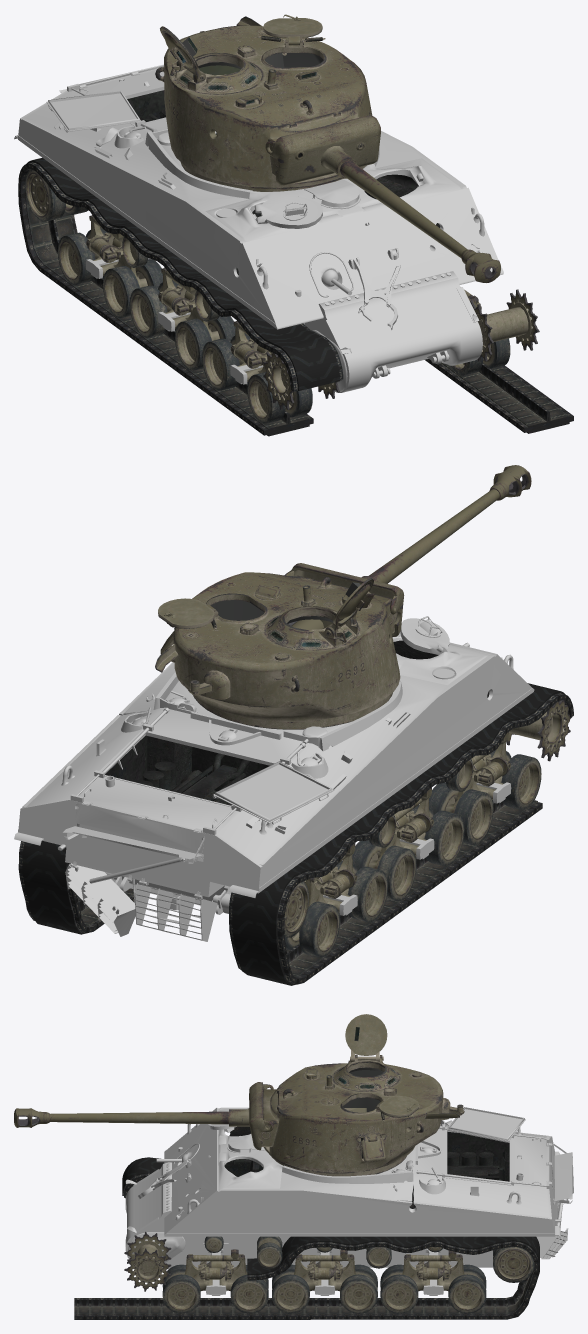
Rendered from M4A3E8_CRASHED.fbx.
3 renders of one model, top to bottom at view 1: azimuth 30°, elevation 25°; view 2: azimuth 150°, elevation 25°; view 3: azimuth 270°, elevation 25°, orthographic. The views are drawn at different scales.
Parts seen in each view (by area): view 1: american\A06_M4A3E8_Sherman\crash\l\Hull.pri~6~4, american\A06_M4A3E8_Sherman\crash\l\Turret_02.pri~6~6, american\A06_M4A3E8_Sherman\crash\l\Hull.pri~6~5, american\A06_M4A3E8_Sherman\crash\l\Chassis.pri~6~2, american\A06_M4A3E8_Sherman\crash\l\Gun_06.pri~6~7, american\A06_M4A3E8_Sherman\crash\l\Chassis.pri~6~1, american\A06_M4A3E8_Sherman\crash\l\Hull.pri~6~3; view 2: american\A06_M4A3E8_Sherman\crash\l\Hull.pri~6~4, american\A06_M4A3E8_Sherman\crash\l\Turret_02.pri~6~6, american\A06_M4A3E8_Sherman\crash\l\Hull.pri~6~5, american\A06_M4A3E8_Sherman\crash\l\Chassis.pri~6~2, american\A06_M4A3E8_Sherman\crash\l\Hull.pri~6~3, american\A06_M4A3E8_Sherman\crash\l\Gun_06.pri~6~7, american\A06_M4A3E8_Sherman\crash\l\Chassis.pri~6~1; view 3: american\A06_M4A3E8_Sherman\crash\l\Hull.pri~6~4, american\A06_M4A3E8_Sherman\crash\l\Turret_02.pri~6~6, american\A06_M4A3E8_Sherman\crash\l\Hull.pri~6~5, american\A06_M4A3E8_Sherman\crash\l\Chassis.pri~6~1, american\A06_M4A3E8_Sherman\crash\l\Gun_06.pri~6~7, american\A06_M4A3E8_Sherman\crash\l\Hull.pri~6~3, american\A06_M4A3E8_Sherman\crash\l\Chassis.pri~6~2.
Part boxes in pixels (box(x1,y1,x2,y2)): american\A06_M4A3E8_Sherman\crash\l\Hull.pri~6~4: box(14, 64, 503, 392); american\A06_M4A3E8_Sherman\crash\l\Turret_02.pri~6~6: box(155, 14, 372, 191); american\A06_M4A3E8_Sherman\crash\l\Hull.pri~6~5: box(25, 169, 539, 423); american\A06_M4A3E8_Sherman\crash\l\Chassis.pri~6~2: box(18, 157, 343, 436); american\A06_M4A3E8_Sherman\crash\l\Gun_06.pri~6~7: box(265, 115, 500, 282); american\A06_M4A3E8_Sherman\crash\l\Chassis.pri~6~1: box(425, 359, 573, 433); american\A06_M4A3E8_Sherman\crash\l\Hull.pri~6~3: box(127, 90, 439, 275); american\A06_M4A3E8_Sherman\crash\l\Hull.pri~6~4: box(14, 616, 534, 941); american\A06_M4A3E8_Sherman\crash\l\Turret_02.pri~6~6: box(155, 572, 400, 729); american\A06_M4A3E8_Sherman\crash\l\Hull.pri~6~5: box(77, 700, 571, 957); american\A06_M4A3E8_Sherman\crash\l\Chassis.pri~6~2: box(229, 683, 573, 985); american\A06_M4A3E8_Sherman\crash\l\Hull.pri~6~3: box(105, 640, 489, 805); american\A06_M4A3E8_Sherman\crash\l\Gun_06.pri~6~7: box(284, 465, 531, 636); american\A06_M4A3E8_Sherman\crash\l\Chassis.pri~6~1: box(18, 840, 134, 934); american\A06_M4A3E8_Sherman\crash\l\Hull.pri~6~4: box(125, 1107, 573, 1295); american\A06_M4A3E8_Sherman\crash\l\Turret_02.pri~6~6: box(258, 1014, 464, 1176); american\A06_M4A3E8_Sherman\crash\l\Hull.pri~6~5: box(124, 1180, 534, 1313); american\A06_M4A3E8_Sherman\crash\l\Chassis.pri~6~1: box(74, 1236, 539, 1319); american\A06_M4A3E8_Sherman\crash\l\Gun_06.pri~6~7: box(14, 1082, 366, 1150); american\A06_M4A3E8_Sherman\crash\l\Hull.pri~6~3: box(224, 1126, 509, 1208); american\A06_M4A3E8_Sherman\crash\l\Chassis.pri~6~2: box(122, 1157, 164, 1197).
Bounding box in the file's own units: 2.88 × 3.38 × 7.49.
